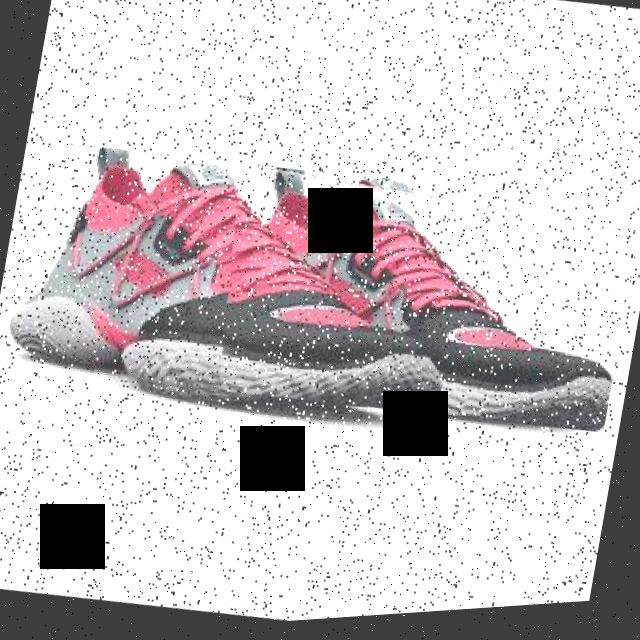shoe: (1, 120, 467, 449), (201, 145, 640, 461)
